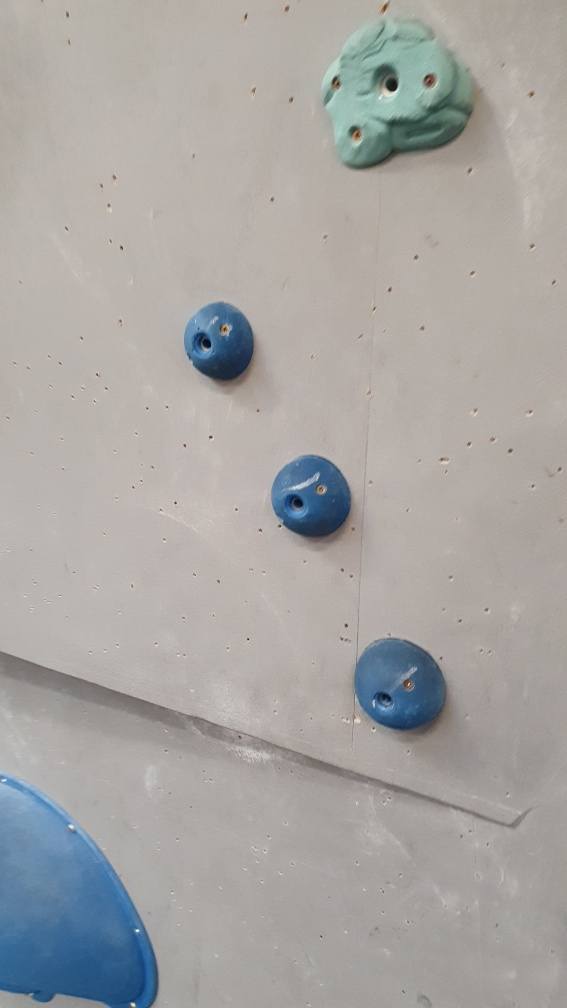Sloper: (349, 634, 449, 740), (267, 453, 360, 541), (177, 300, 263, 382)
